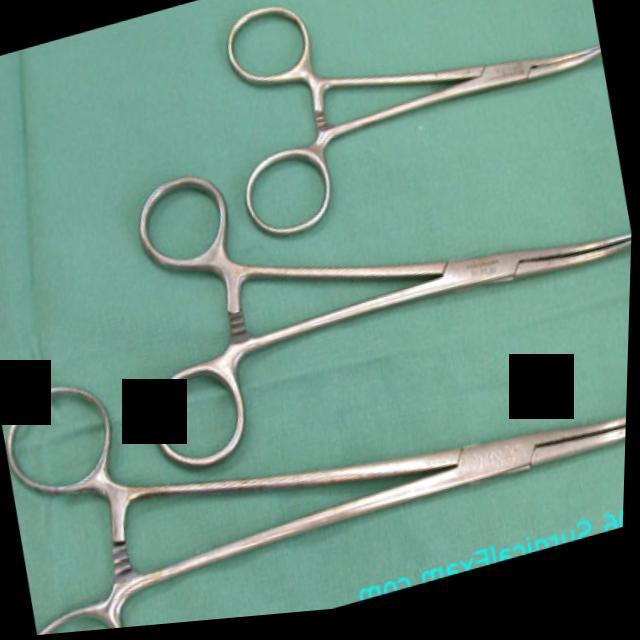Artery Forceps: (0, 220, 634, 640), (97, 65, 638, 492), (202, 0, 622, 253)
